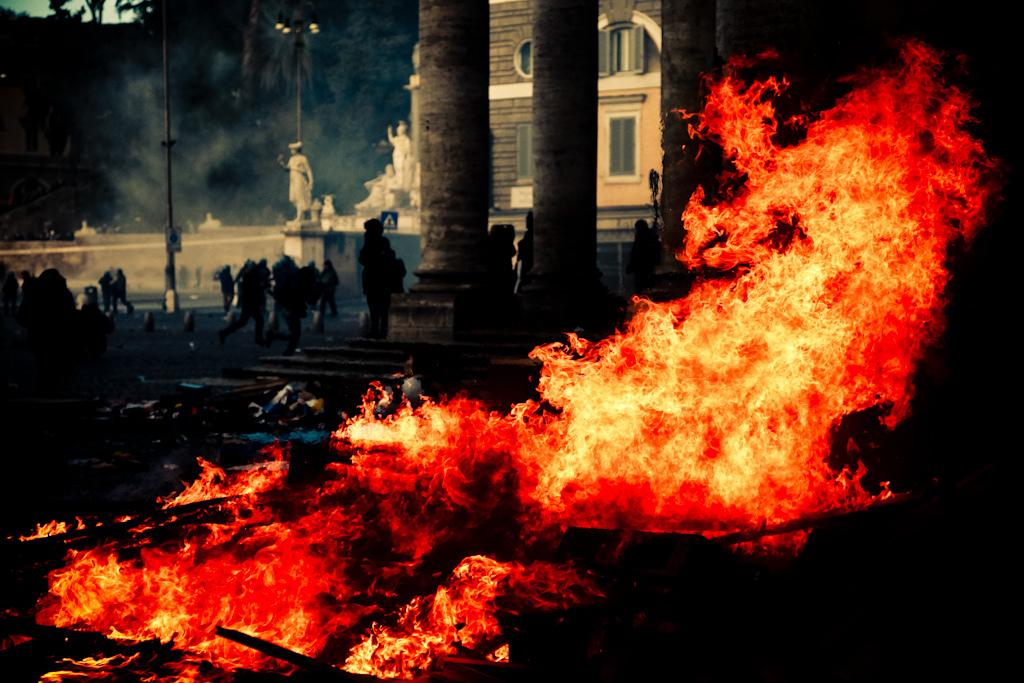fire: (607, 302, 888, 485), (750, 128, 927, 285), (160, 515, 333, 643)
